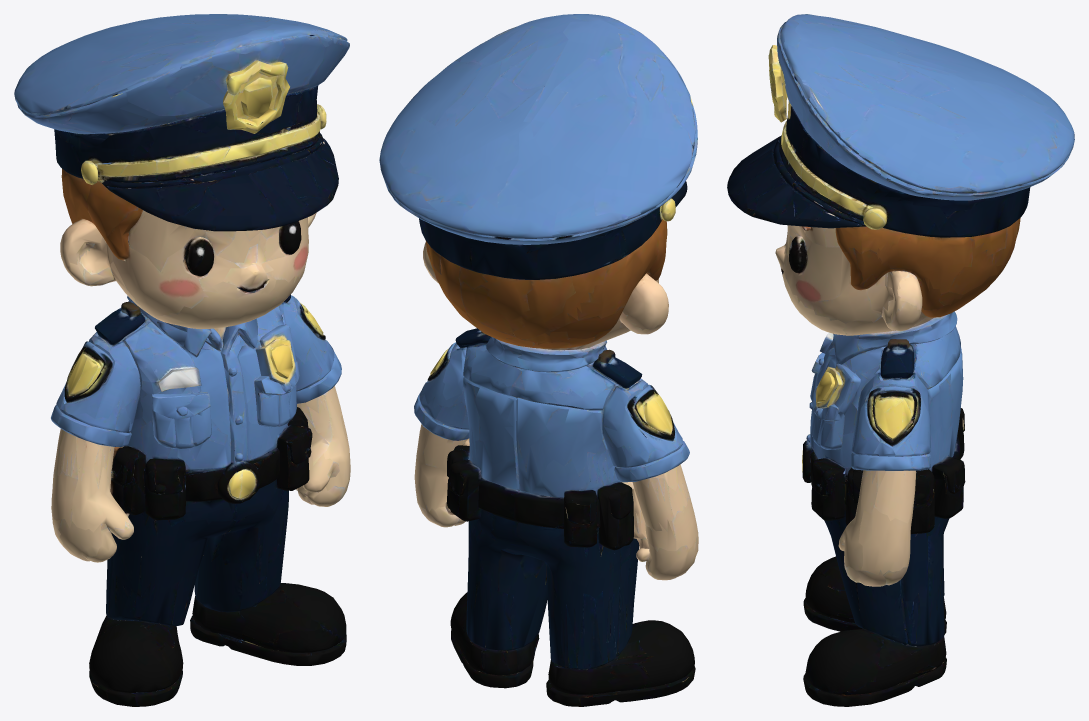
The model's file is upm_muprjp726gi.glb.
The picture shows the model from 3 angles, left to right: view 1: azimuth 30°, elevation 25°; view 2: azimuth 150°, elevation 25°; view 3: azimuth 270°, elevation 25°; orthographic projection. The views are drawn at different scales.
Bounding box in the file's own units: 0.9039 × 1.9 × 0.9651.
Materials: 1 (1 with a texture image).
